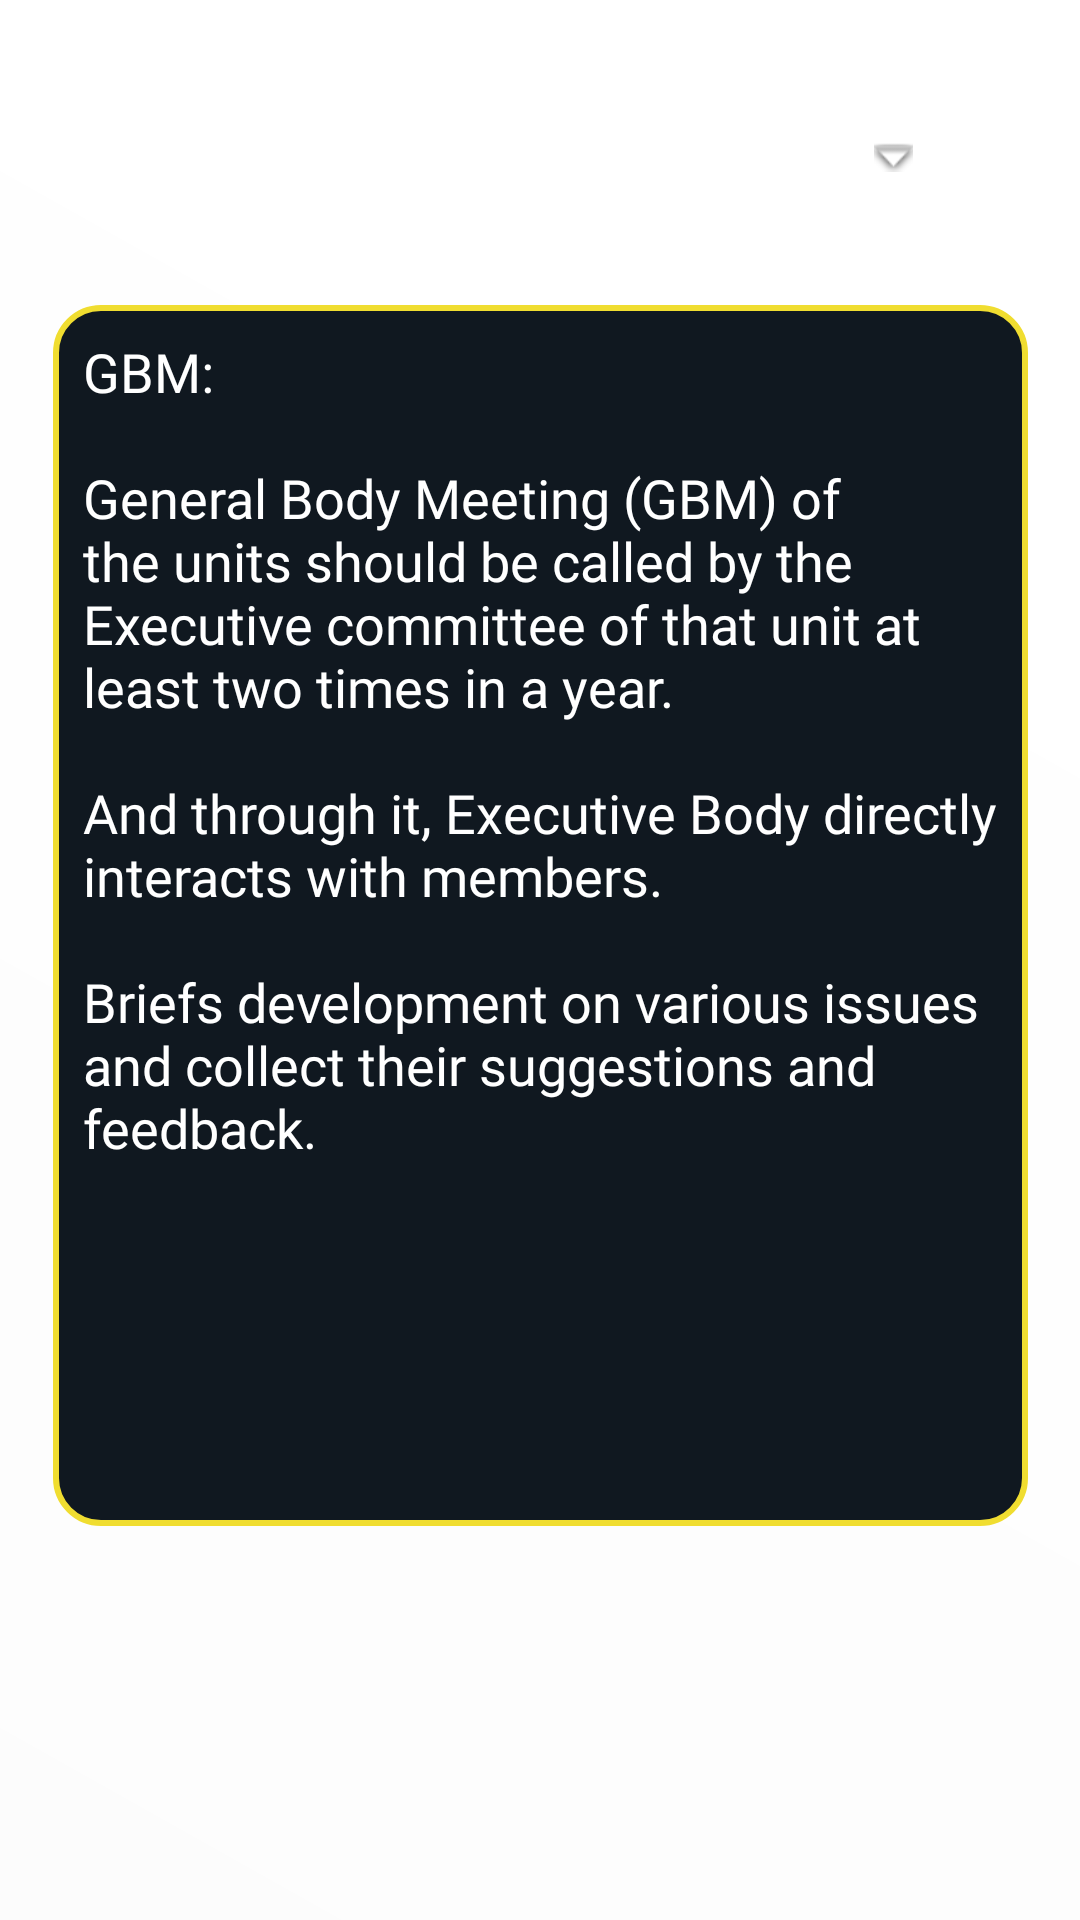

Screen size 1080x1920. Icon name, then its box in pixels as (x1, y1, x2, y2):
image telling to scroll down: (874, 144, 913, 171)
